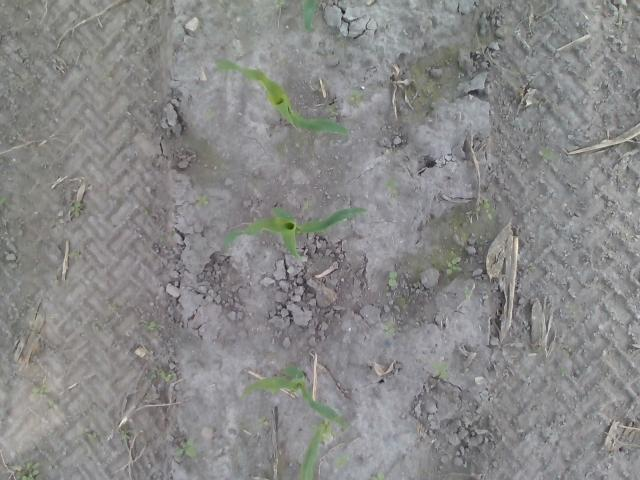Maize: (214, 60, 349, 137), (223, 204, 369, 260), (242, 362, 348, 430), (297, 421, 322, 480), (298, 0, 320, 35)
Weeds: (14, 460, 41, 480), (174, 437, 196, 458), (446, 251, 462, 276), (158, 368, 180, 384), (432, 360, 449, 380), (483, 198, 496, 222), (384, 179, 402, 194), (195, 191, 210, 209), (346, 89, 361, 106), (30, 386, 50, 398), (335, 454, 353, 467), (323, 424, 337, 440), (144, 320, 162, 332), (542, 148, 557, 161), (70, 200, 82, 216), (326, 106, 340, 119), (388, 270, 398, 288), (383, 320, 394, 336), (72, 248, 84, 262), (257, 416, 270, 428), (84, 427, 97, 439), (47, 398, 60, 410), (0, 194, 9, 208), (560, 366, 570, 378), (463, 286, 475, 296), (120, 430, 130, 442), (103, 70, 114, 80), (561, 347, 571, 357), (449, 220, 458, 231), (374, 472, 386, 480), (206, 110, 214, 118), (144, 207, 150, 216)
